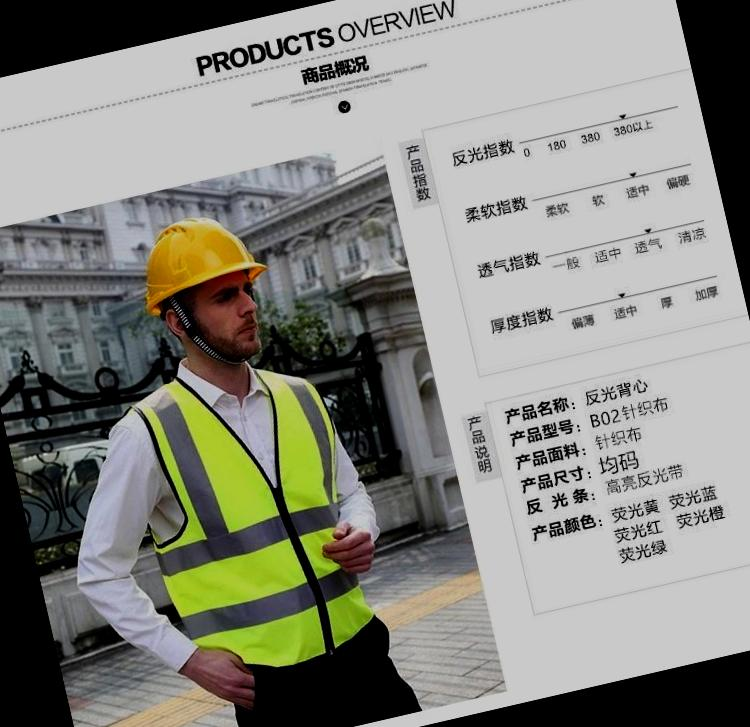helmet: (121, 210, 276, 332)
person: (41, 198, 428, 727)
